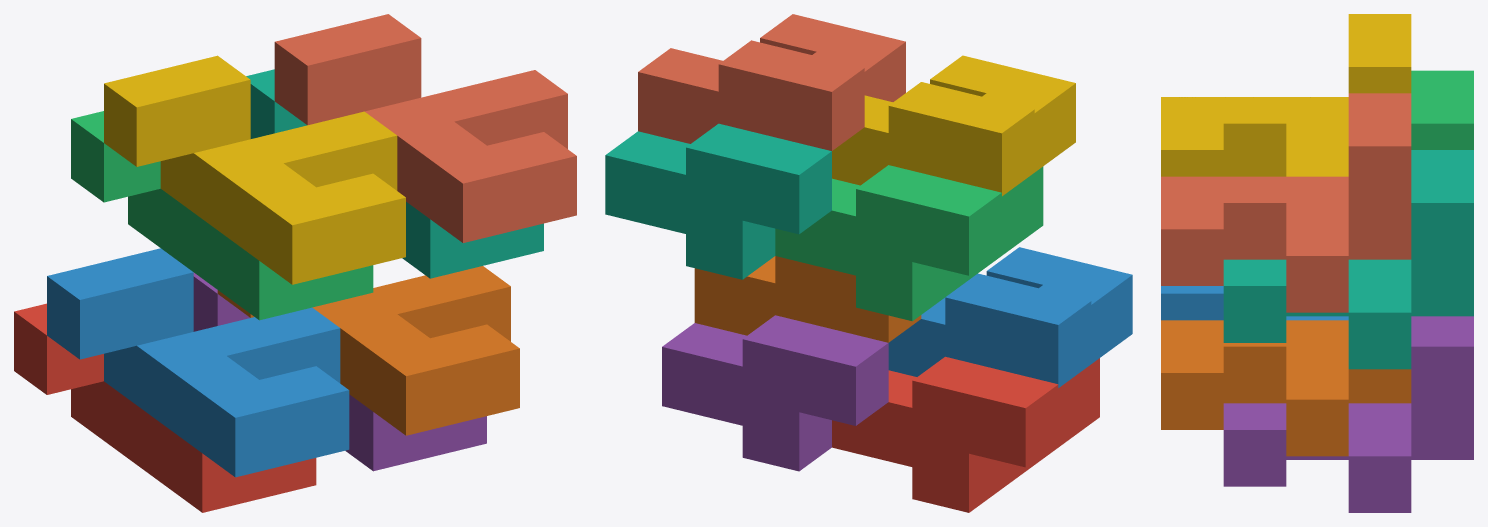
File: tiling.obj
The picture shows the model from 3 angles, left to right: view 1: azimuth 30°, elevation 25°; view 2: azimuth 150°, elevation 25°; view 3: azimuth 270°, elevation 25°; orthographic projection. The views are drawn at different scales.
Parts seen in each view (by area): view 1: copy_1_domain_4, copy_1_domain_2, copy_1_domain_8, copy_1_domain_6, copy_1_domain_3, copy_1_domain_1, copy_1_domain_7, copy_1_domain_5; view 2: copy_1_domain_8, copy_1_domain_3, copy_1_domain_1, copy_1_domain_5, copy_1_domain_7, copy_1_domain_4, copy_1_domain_2, copy_1_domain_6; view 3: copy_1_domain_8, copy_1_domain_7, copy_1_domain_5, copy_1_domain_6, copy_1_domain_4, copy_1_domain_3, copy_1_domain_2.
Part boxes in pixels (x1,y1,x2,y2): copy_1_domain_4: [104, 55, 405, 284]; copy_1_domain_2: [47, 248, 349, 477]; copy_1_domain_8: [274, 14, 576, 242]; copy_1_domain_6: [217, 266, 519, 435]; copy_1_domain_3: [71, 111, 373, 320]; copy_1_domain_1: [14, 303, 316, 512]; copy_1_domain_7: [246, 69, 543, 278]; copy_1_domain_5: [193, 272, 486, 471]; copy_1_domain_8: [638, 14, 905, 150]; copy_1_domain_3: [775, 165, 1043, 321]; copy_1_domain_1: [832, 356, 1099, 512]; copy_1_domain_5: [662, 315, 888, 471]; copy_1_domain_7: [605, 123, 831, 279]; copy_1_domain_4: [832, 55, 1075, 196]; copy_1_domain_2: [888, 247, 1132, 387]; copy_1_domain_6: [694, 256, 921, 342]; copy_1_domain_8: [1161, 93, 1411, 312]; copy_1_domain_7: [1223, 150, 1473, 369]; copy_1_domain_5: [1223, 316, 1473, 512]; copy_1_domain_6: [1161, 320, 1411, 456]; copy_1_domain_4: [1161, 14, 1411, 176]; copy_1_domain_3: [1411, 70, 1473, 149]; copy_1_domain_2: [1161, 286, 1348, 320].
Bounding box in the file's own units: 8 × 6 × 5.
